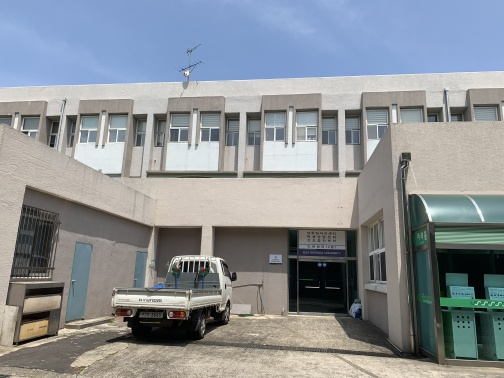Ara Hall: (352, 121, 500, 369)
